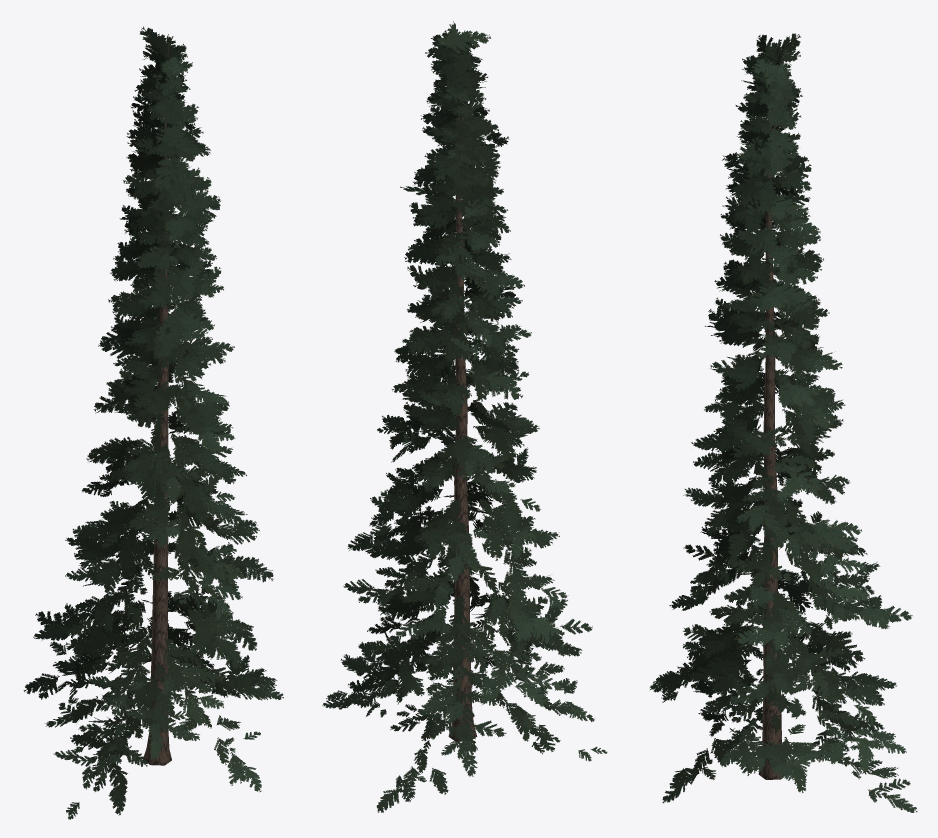
Rendered from pine_c_lod1.glb.
The picture shows the model from 3 angles, left to right: view 1: azimuth 30°, elevation 25°; view 2: azimuth 150°, elevation 25°; view 3: azimuth 270°, elevation 25°; orthographic projection. The views are drawn at different scales.
Visible parts, largest first — view 1: pine_c_lod1; view 2: pine_c_lod1; view 3: pine_c_lod1.
Boxes of the visible parts, x1=… form: pine_c_lod1: x1=23, y1=26, x2=283, y2=819; pine_c_lod1: x1=322, y1=21, x2=607, y2=812; pine_c_lod1: x1=650, y1=33, x2=917, y2=812.
Size of the model in its own units: 11.21 by 33.45 by 10.91.
2 materials, 2 textured.
